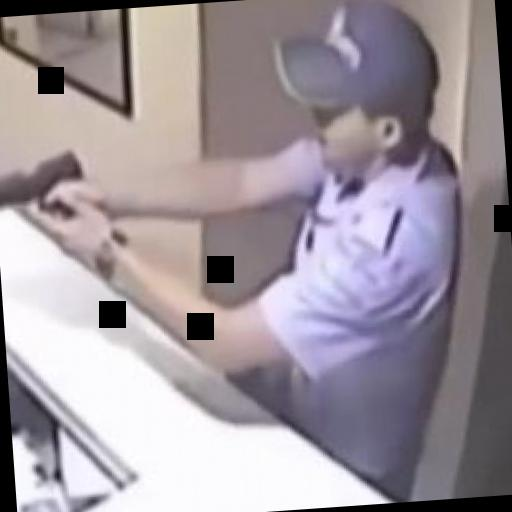Handgun: (0, 143, 99, 230)
